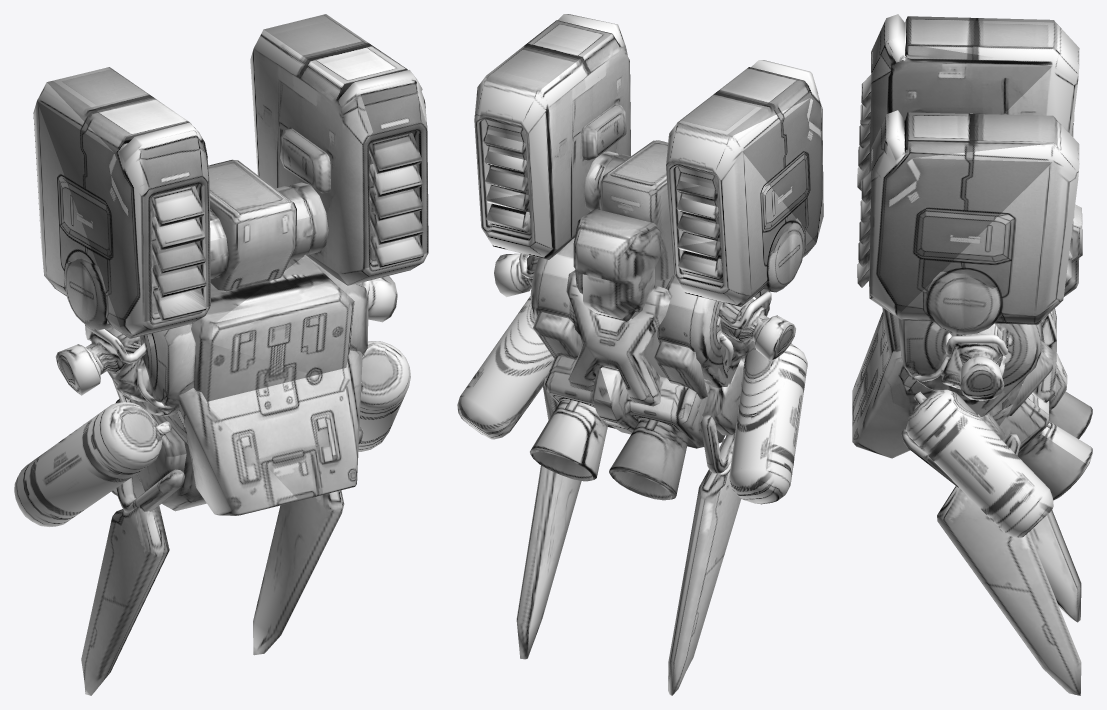
3 views of the same model, side by side, from view 1: azimuth 30°, elevation 25°; view 2: azimuth 150°, elevation 25°; view 3: azimuth 270°, elevation 25° (orthographic). The views are drawn at different scales.
Parts seen in each view (by area): view 1: b_hi; view 2: b_hi; view 3: b_hi.
Part boxes in pixels (x1,y1,x2,y2): b_hi: (14, 14, 428, 695); b_hi: (457, 14, 823, 695); b_hi: (852, 14, 1092, 695).
Bounding box in the file's own units: 1.05 × 1.75 × 0.652.
3 materials, 3 textured.
